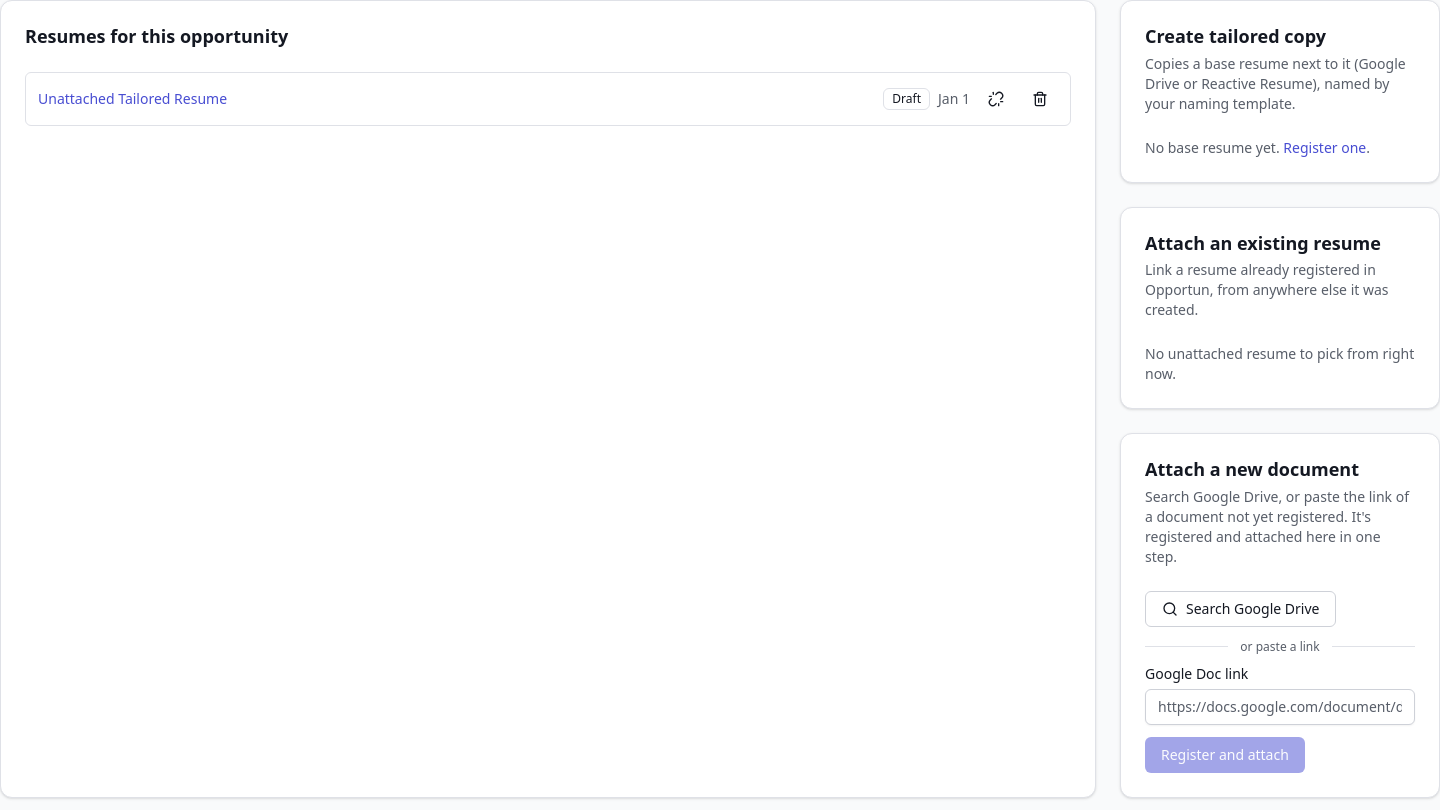
Scenario: OpportunityResumeTab › detaches a resume from this opportunity
This screenshot has width=1440, height=810.
Step 1. Click the button named "Remove Unattached Tailored Resume from this opportunity" → (996,98), box top-left (978, 80), bottom-right (1014, 116)
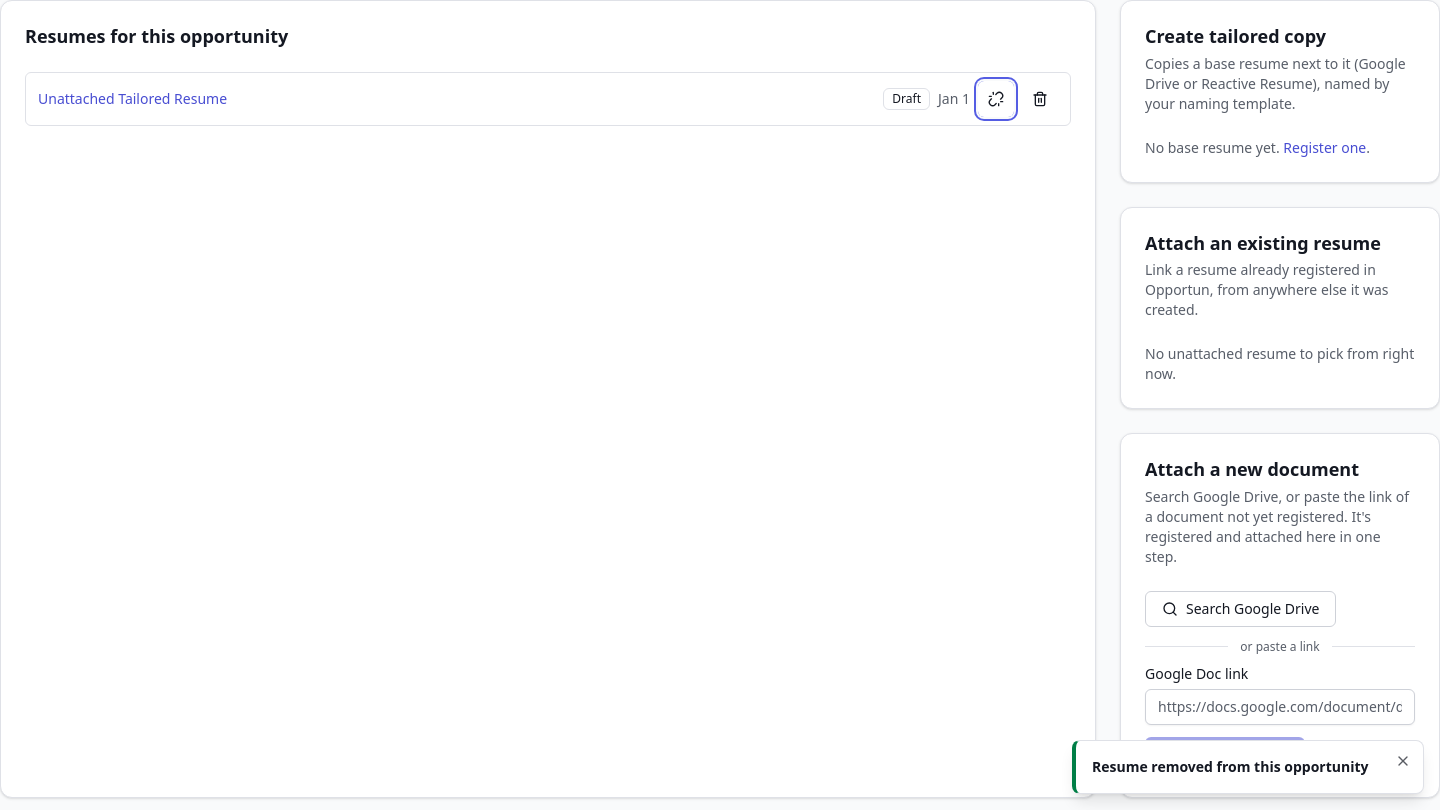
Result: the text "Resume removed from this opportunity" is shown at top-left (1092, 757), bottom-right (1383, 777)
